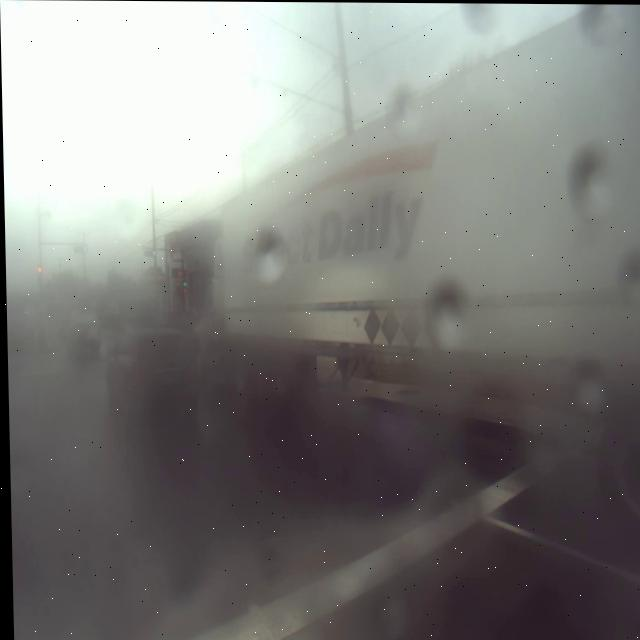car: (61, 309, 103, 363)
